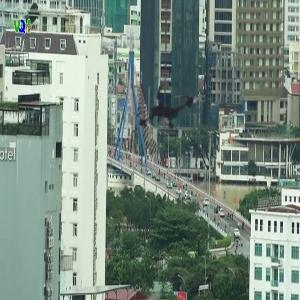drone: (105, 51, 227, 173)
